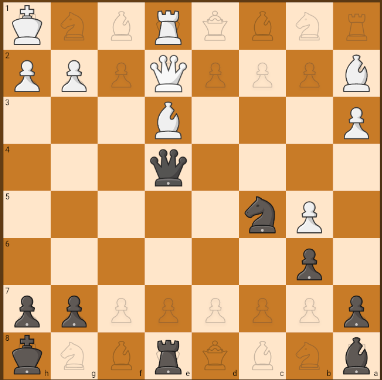bb: (337, 335, 376, 377)
bk: (5, 335, 50, 378)
bn: (241, 194, 285, 237)
bp: (3, 290, 48, 331), (337, 291, 378, 330), (54, 290, 94, 329), (291, 244, 328, 283)
bq: (147, 147, 190, 190)
br: (149, 338, 188, 377)
wb: (152, 96, 188, 139), (340, 52, 374, 94)
wp: (288, 194, 333, 238), (7, 3, 47, 48), (8, 52, 47, 95), (54, 55, 91, 95), (341, 102, 373, 139)
wq: (147, 54, 190, 94)
wr: (148, 2, 190, 49)
